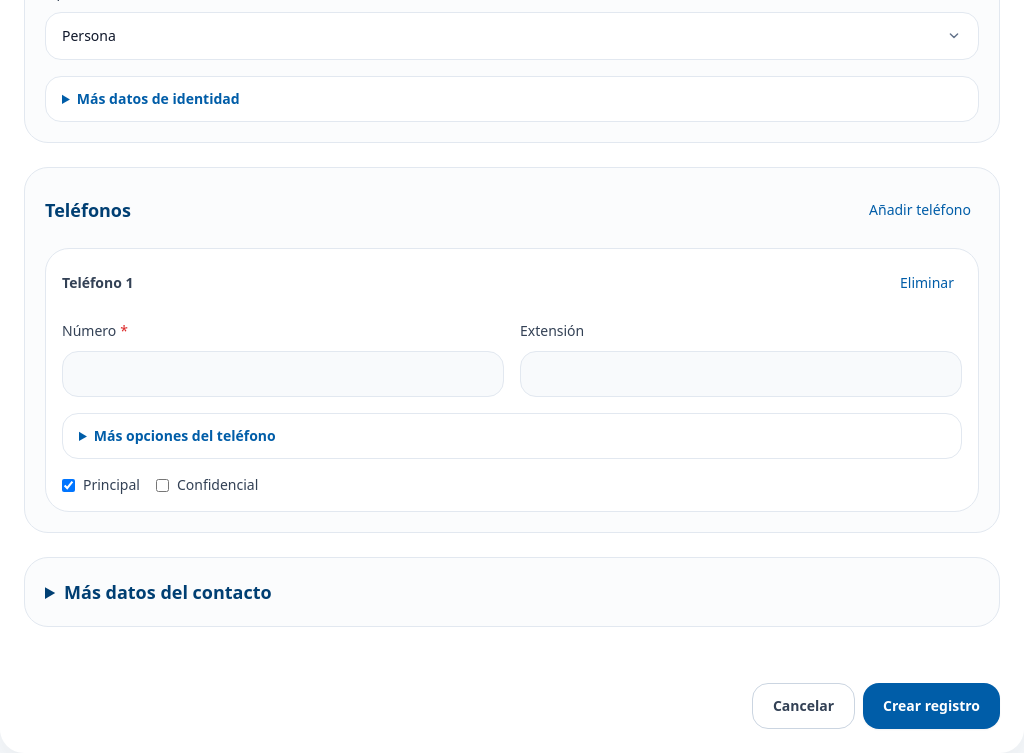
RecordFormPage › announces and focuses the new email row when adding an email
(page scrolled)
Click the heading "Más datos del contacto".
click(168, 592)  # box [64,580,272,604]
(page scrolled)
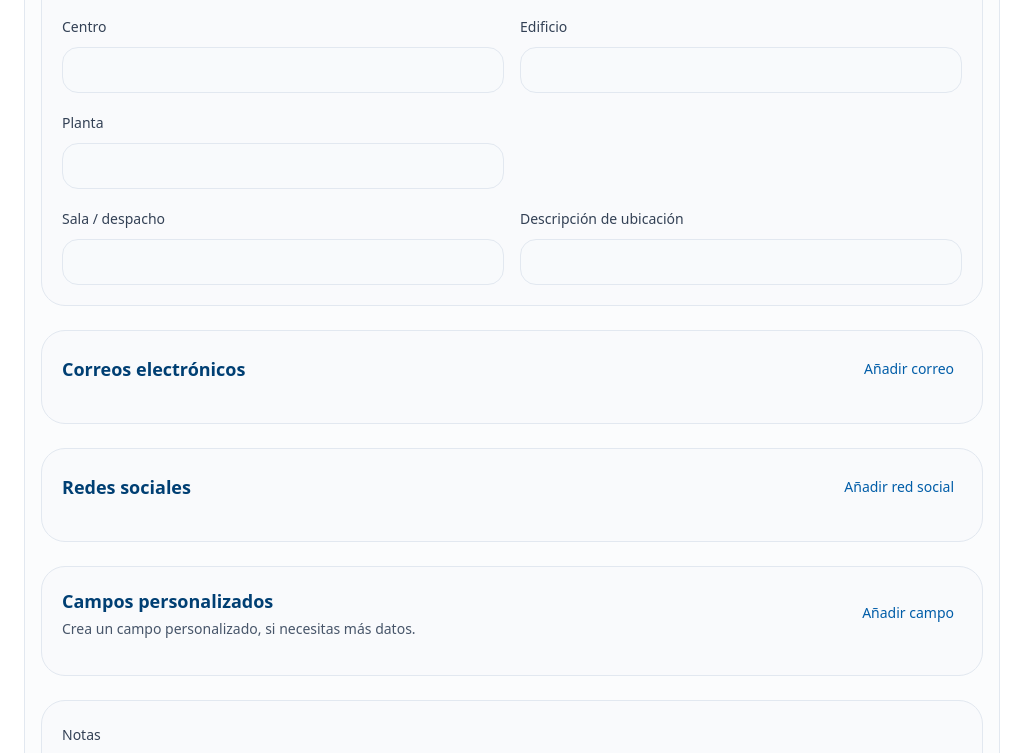
Click the button "Añadir correo".
click(909, 369)  # box [856,351,962,387]
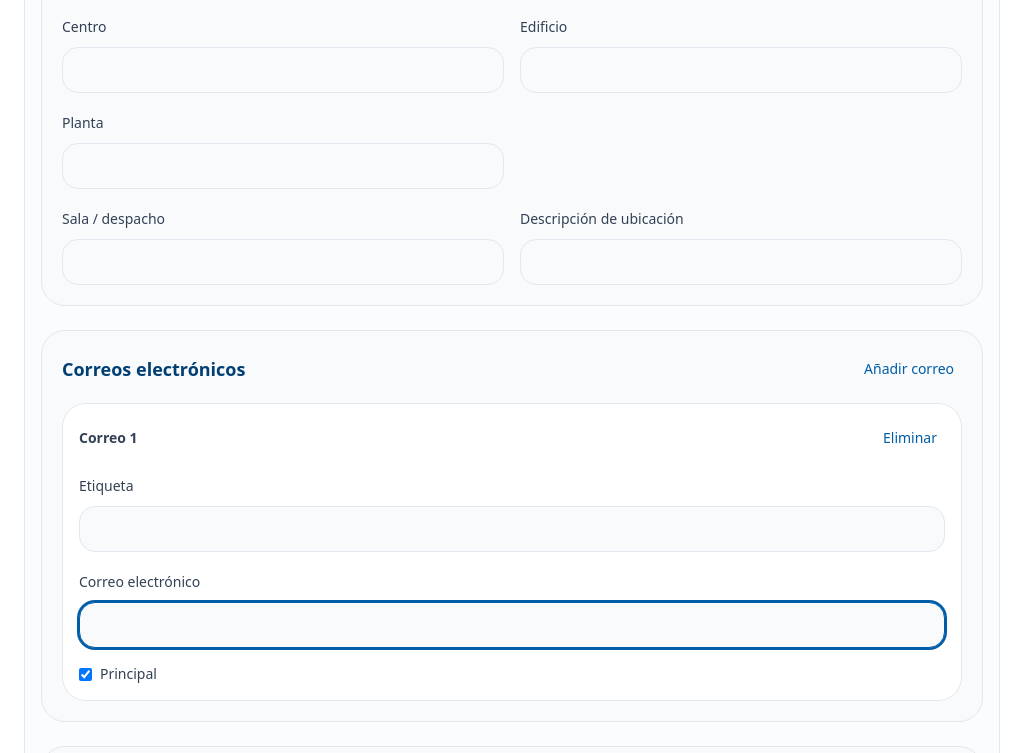
Result: the number of fields labelled "Correo electrónico" is 1 at [79,602,945,648]
